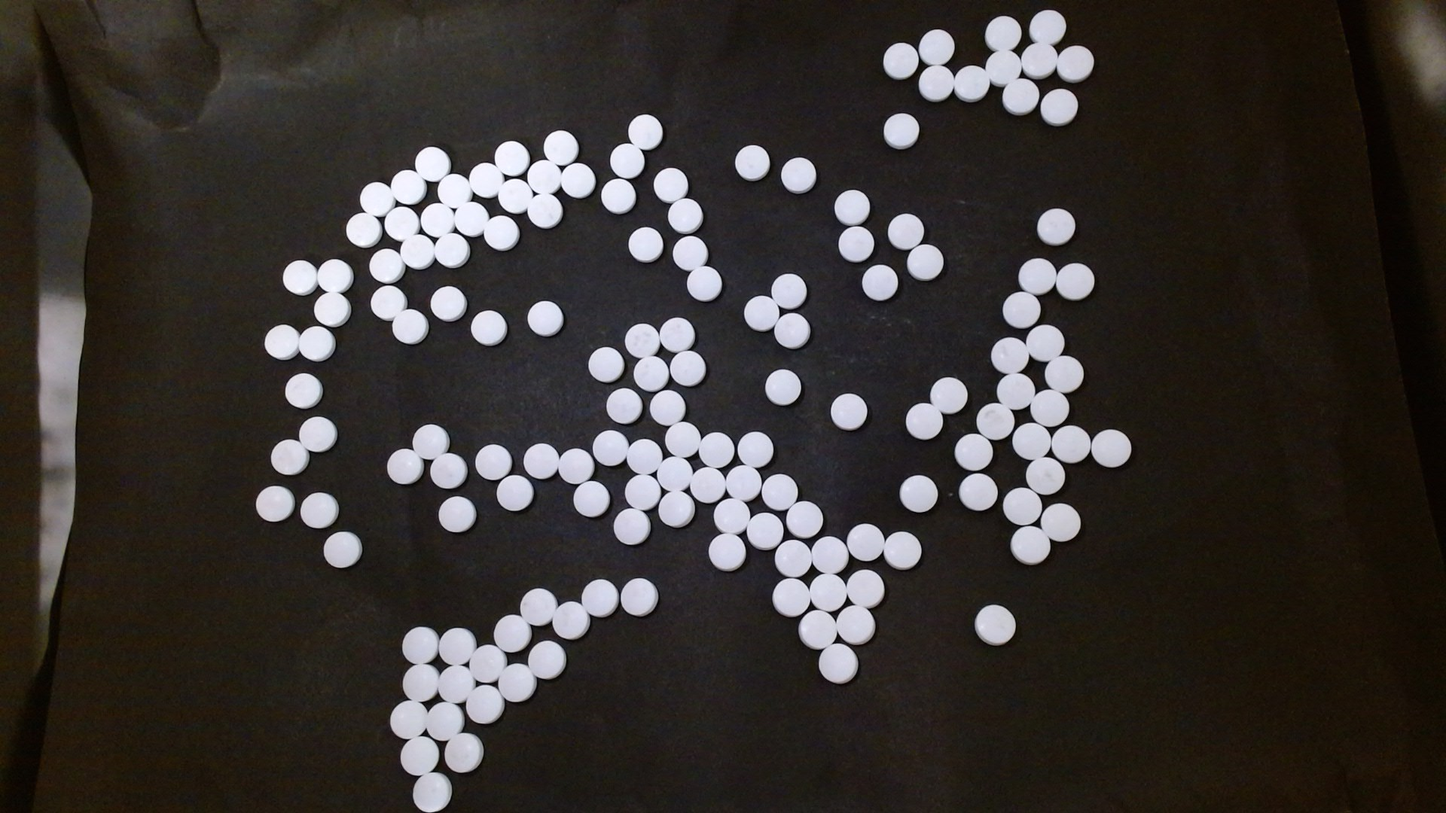Circle: (975, 603, 1016, 645), (389, 699, 430, 740), (818, 644, 859, 685), (412, 770, 453, 811), (526, 639, 566, 681), (1091, 428, 1132, 468), (1010, 525, 1051, 565), (399, 735, 440, 775), (444, 731, 484, 772), (771, 577, 811, 617), (836, 604, 876, 644), (493, 614, 532, 655), (1025, 456, 1066, 495), (1040, 502, 1081, 541), (465, 684, 504, 725), (809, 572, 848, 613), (798, 609, 837, 650), (1055, 261, 1095, 300), (1051, 424, 1091, 463), (1029, 388, 1069, 427), (497, 662, 536, 702), (1002, 487, 1042, 526), (898, 474, 938, 513), (612, 507, 651, 547), (847, 568, 886, 608), (426, 700, 465, 740), (995, 371, 1035, 410), (709, 531, 747, 572), (954, 433, 993, 472), (773, 538, 812, 577), (1039, 87, 1078, 126), (551, 600, 589, 640), (883, 531, 921, 571), (990, 336, 1030, 374), (401, 663, 439, 703), (254, 484, 294, 522), (810, 535, 848, 575), (1002, 291, 1041, 329), (411, 422, 450, 460), (929, 376, 968, 414), (437, 627, 475, 666), (1025, 323, 1064, 361), (958, 473, 997, 511), (1012, 421, 1051, 459), (519, 587, 557, 626), (712, 496, 750, 535), (322, 531, 361, 569), (1036, 207, 1075, 245), (975, 402, 1014, 440), (468, 644, 505, 684), (581, 578, 618, 618), (620, 577, 657, 617), (429, 452, 467, 490), (905, 402, 943, 440), (270, 438, 308, 476), (572, 480, 610, 518), (1056, 44, 1094, 82), (657, 490, 695, 528), (764, 368, 802, 406), (438, 495, 476, 533), (631, 355, 669, 393), (830, 392, 868, 430), (1045, 355, 1084, 392), (299, 492, 338, 529), (1017, 257, 1056, 294), (697, 431, 734, 470), (401, 626, 438, 665), (496, 475, 533, 513), (907, 243, 944, 281), (773, 312, 811, 349), (1000, 78, 1038, 115), (847, 523, 884, 561), (761, 473, 798, 511), (592, 428, 629, 466), (438, 665, 475, 703), (887, 212, 924, 249), (314, 290, 351, 327), (392, 308, 429, 345), (474, 443, 511, 480), (285, 372, 322, 409), (861, 263, 898, 300), (470, 309, 507, 346), (917, 64, 954, 101), (1020, 41, 1057, 78), (656, 455, 693, 492), (917, 28, 954, 65), (298, 416, 336, 452), (523, 442, 559, 480), (297, 325, 335, 361), (670, 349, 706, 387), (526, 300, 564, 336), (746, 512, 782, 550), (984, 14, 1020, 52), (837, 226, 874, 262), (671, 234, 708, 270), (316, 257, 352, 294), (587, 346, 623, 383), (606, 388, 642, 425), (386, 448, 422, 485), (558, 448, 594, 485), (282, 258, 318, 295), (737, 431, 773, 468), (883, 41, 919, 78), (649, 388, 685, 425), (433, 232, 470, 268), (624, 473, 660, 510), (1029, 9, 1066, 45), (686, 266, 722, 302), (771, 272, 807, 308), (264, 324, 300, 360), (390, 169, 426, 205), (834, 189, 870, 225), (780, 157, 816, 193), (659, 316, 695, 352), (664, 421, 700, 457), (399, 233, 435, 269), (543, 129, 579, 165), (414, 145, 450, 181), (690, 465, 726, 501), (627, 113, 663, 149), (883, 112, 919, 148), (985, 47, 1020, 84), (786, 500, 821, 537), (437, 172, 472, 209), (725, 464, 760, 501), (601, 178, 636, 214), (627, 227, 662, 263), (431, 285, 466, 321), (667, 198, 703, 233), (953, 64, 989, 99), (743, 295, 778, 331), (453, 201, 489, 236), (526, 193, 562, 228), (346, 212, 381, 248), (494, 139, 529, 175), (624, 322, 660, 357), (734, 144, 770, 179), (609, 142, 644, 177), (371, 285, 406, 320), (384, 206, 419, 241), (497, 178, 532, 213), (369, 248, 404, 283), (483, 215, 517, 250), (526, 159, 560, 194), (654, 167, 688, 202), (359, 181, 394, 215), (627, 437, 660, 473), (420, 202, 454, 236), (468, 163, 502, 196), (560, 163, 594, 196)
